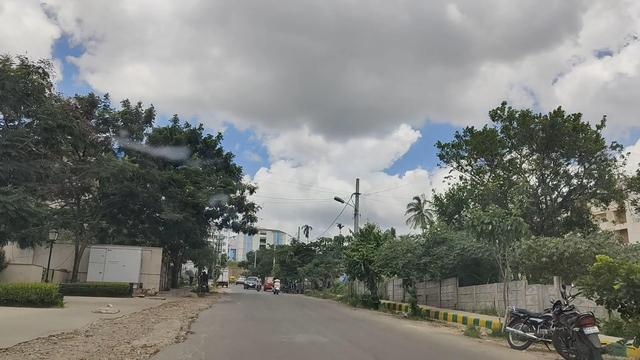RoadDamages: (1, 297, 260, 359)
